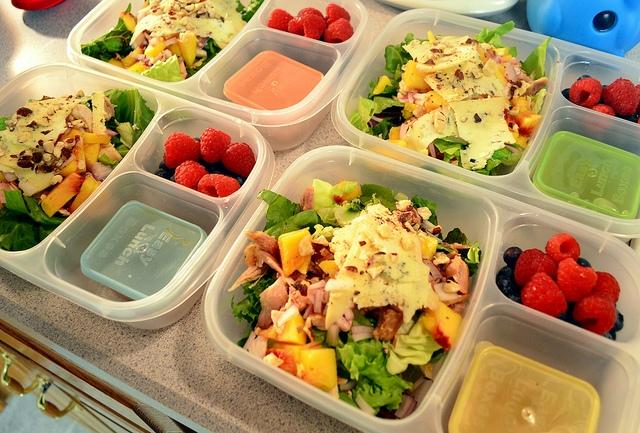blueberry: (502, 246, 522, 269), (205, 160, 228, 176), (610, 308, 624, 332), (496, 266, 516, 282), (562, 312, 581, 328), (615, 111, 639, 123), (159, 160, 176, 176), (227, 172, 246, 186), (602, 328, 616, 341), (508, 294, 524, 304), (576, 257, 592, 267), (154, 169, 168, 180), (561, 88, 571, 102), (578, 74, 592, 80), (500, 280, 510, 287), (194, 137, 201, 142)
lettuce: (336, 308, 413, 391), (382, 312, 442, 375), (80, 3, 134, 62), (230, 277, 274, 348), (1, 207, 62, 252), (104, 87, 155, 132), (263, 210, 322, 240), (472, 21, 518, 58), (410, 195, 444, 241), (133, 54, 186, 82), (356, 183, 398, 214), (522, 36, 551, 80), (266, 195, 296, 224), (114, 118, 142, 149), (372, 117, 406, 140), (385, 45, 413, 70), (432, 136, 466, 155), (236, 1, 264, 22), (444, 228, 476, 246), (373, 96, 405, 114), (358, 98, 378, 122), (529, 88, 547, 114), (468, 239, 482, 264), (382, 76, 401, 94), (501, 151, 522, 166), (0, 116, 12, 131), (207, 38, 216, 54), (372, 193, 379, 205)
raspberry: (520, 272, 568, 318), (556, 258, 598, 302), (514, 248, 558, 287), (163, 132, 201, 169), (602, 77, 638, 116), (221, 142, 256, 178), (546, 233, 580, 268), (200, 128, 231, 163), (174, 160, 209, 191), (588, 271, 620, 304), (570, 78, 604, 109), (288, 13, 326, 40), (198, 174, 240, 198), (584, 104, 614, 132), (324, 17, 354, 43), (324, 3, 351, 28), (266, 9, 294, 32), (298, 7, 324, 18), (634, 84, 640, 112), (637, 117, 640, 124)
